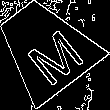M_NW: (10, 13, 80, 82)
